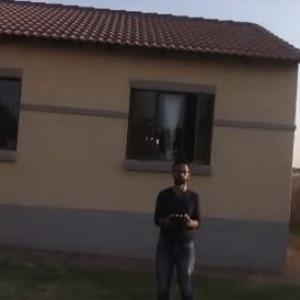follow: (146, 150, 204, 299)
